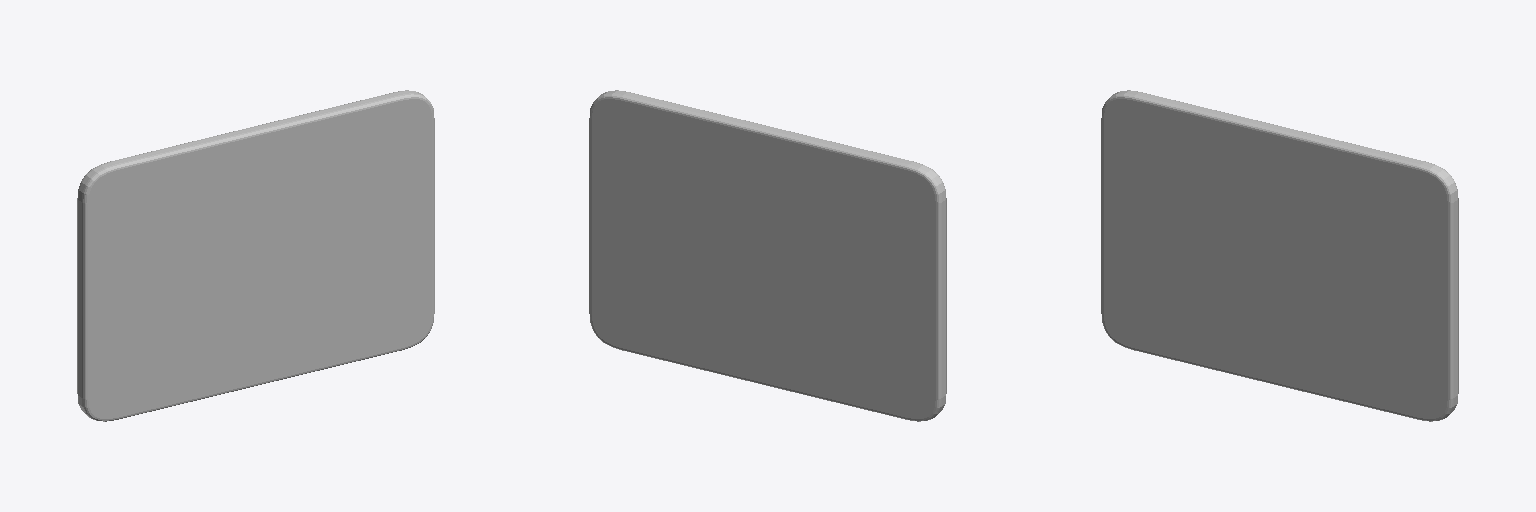
The model's file is sketchpad.obj.
3 renders of one model, left to right at view 1: azimuth 30°, elevation 25°; view 2: azimuth 150°, elevation 25°; view 3: azimuth 330°, elevation 25°, orthographic.
Parts seen in each view (by area): view 1: sketchpad; view 2: sketchpad; view 3: sketchpad.
Part boxes in pixels (left/top/right/bottom): sketchpad: left=77, top=90, right=434, bottom=421; sketchpad: left=589, top=90, right=946, bottom=421; sketchpad: left=1101, top=90, right=1458, bottom=421.
Size of the model in its own units: 93.61 by 64.78 by 3.9.